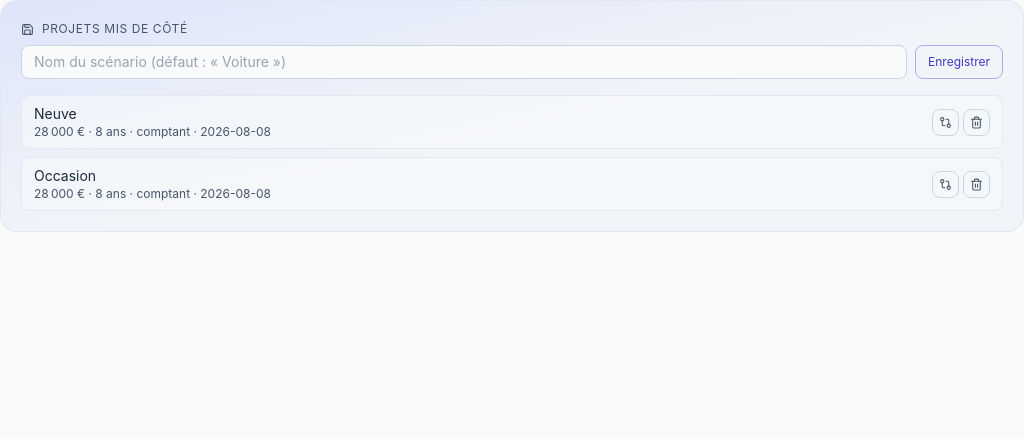
Test: ScenariosProjet › aligne les scénarios comparés sur les mêmes colonnes
Click the button named "Comparer Neuve": (946,122) [932, 108, 959, 136]
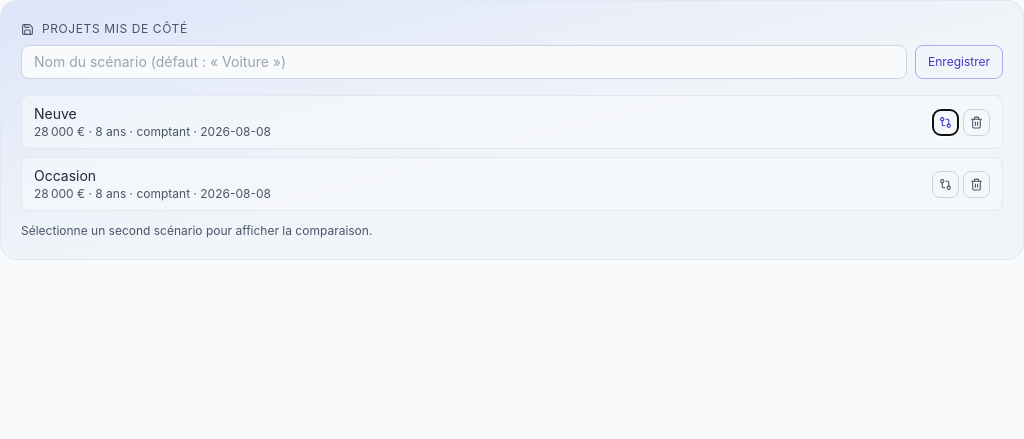
Click the button named "Comparer Occasion": (946,184) [932, 170, 959, 198]
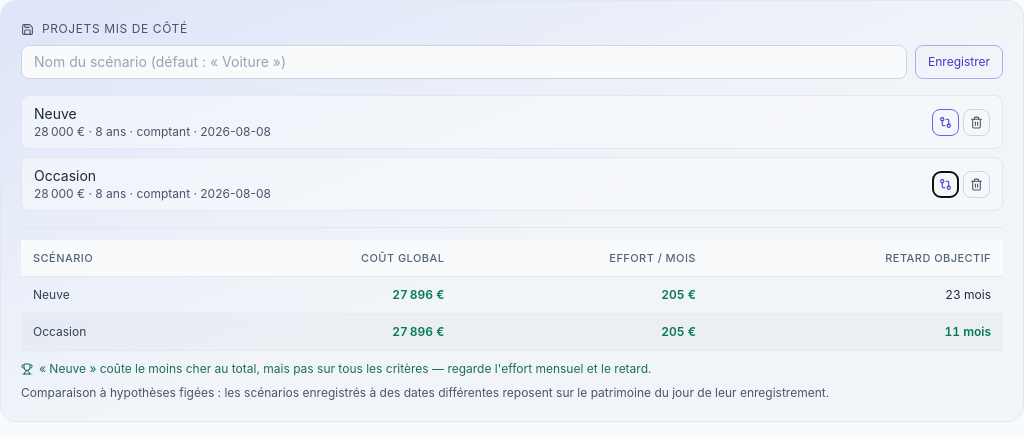
Expected: the text "23 mois" is shown, [708, 277, 1003, 314]
Expected: the text "11 mois" is shown, [708, 314, 1003, 351]
